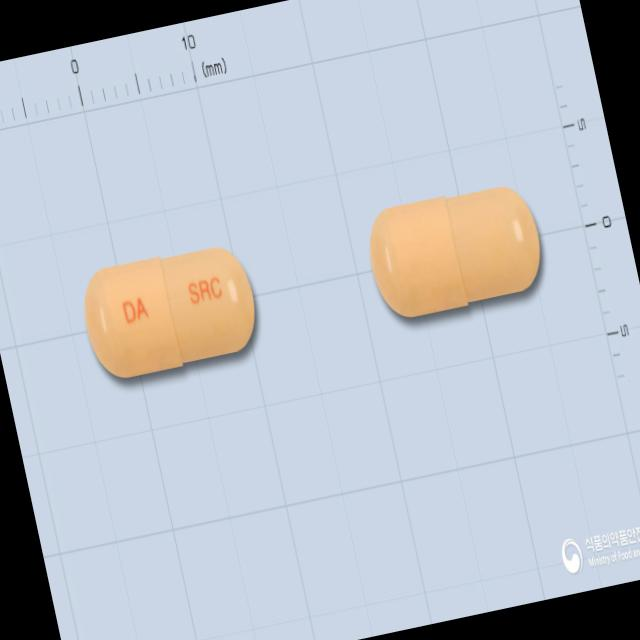Suprax Cap- Dong-A: (73, 236, 266, 385)
